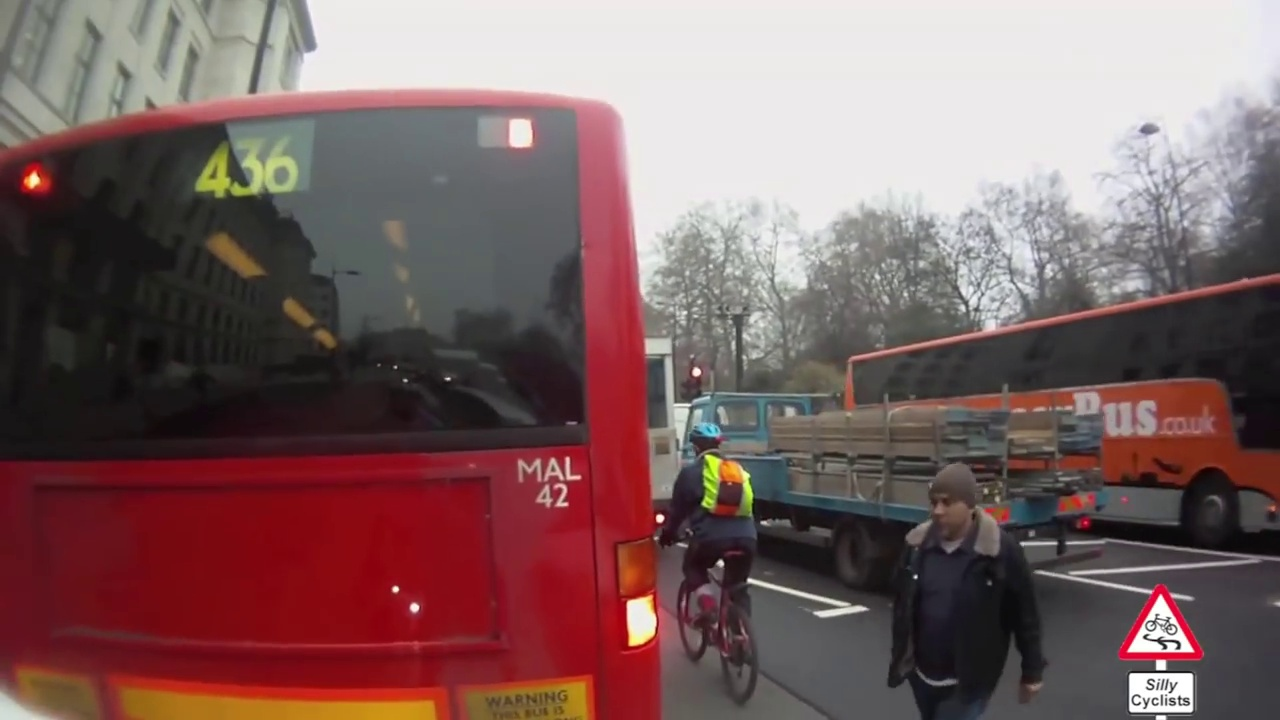cyclist_back: (656, 415, 780, 698)
